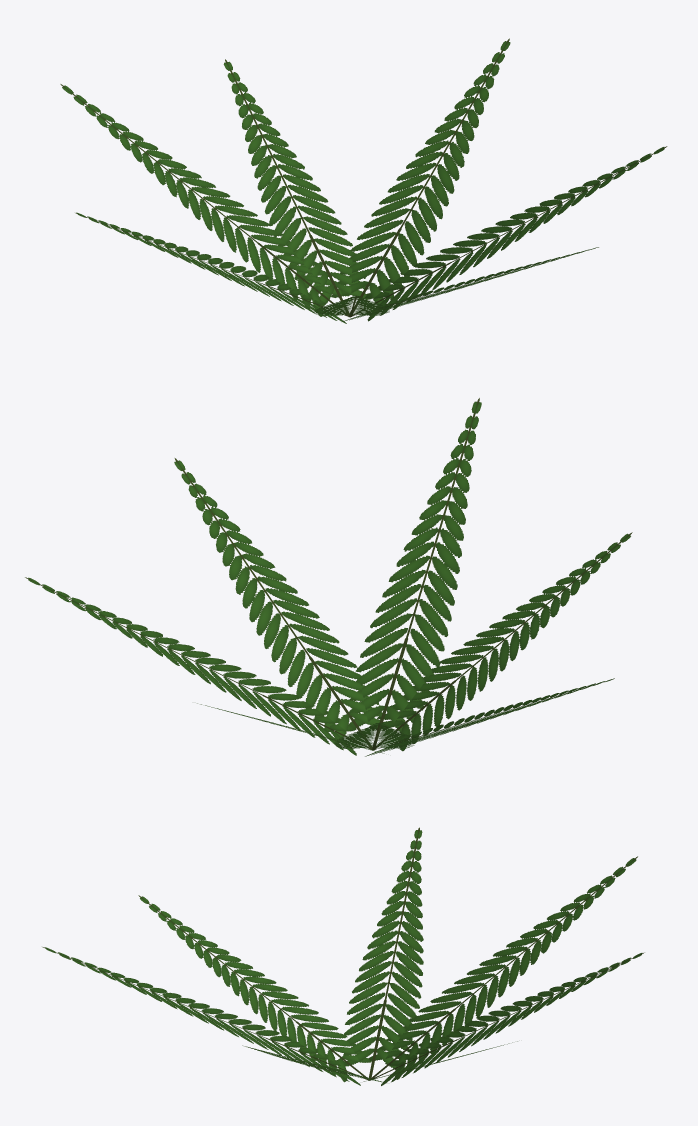
The model's file is SM_Art_Veg_Fern_2.gltf.
3 renders of one model, top to bottom at view 1: azimuth 30°, elevation 25°; view 2: azimuth 150°, elevation 25°; view 3: azimuth 270°, elevation 25°, orthographic. The views are drawn at different scales.
Visible parts, largest first — view 1: SM_Art_Veg_Fern_2; view 2: SM_Art_Veg_Fern_2; view 3: SM_Art_Veg_Fern_2.
Boxes of the visible parts, x1,y1,x2,y2 form: SM_Art_Veg_Fern_2: (60, 38, 667, 323); SM_Art_Veg_Fern_2: (25, 398, 632, 756); SM_Art_Veg_Fern_2: (42, 827, 644, 1085).
Bounding box in the file's own units: 1.81 × 0.572 × 2.
1 material, 1 textured.
